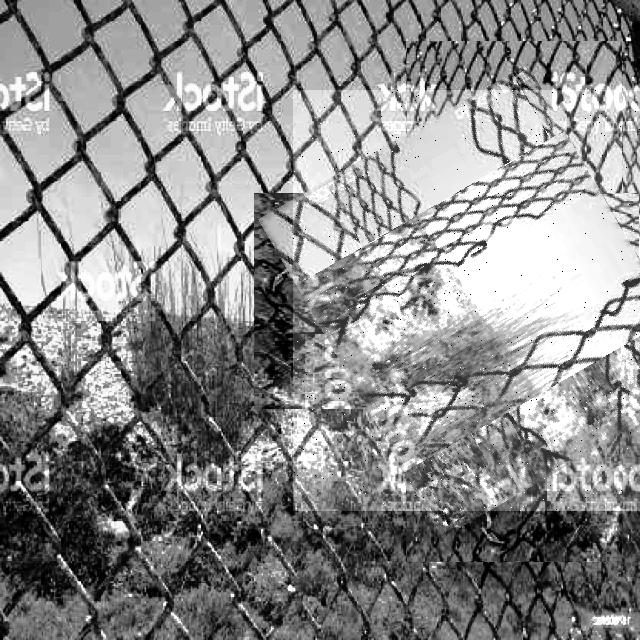anomaly-fence: (293, 90, 640, 511)
